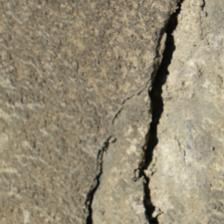Crack: (135, 4, 187, 221), (83, 137, 118, 218), (113, 71, 155, 125)
